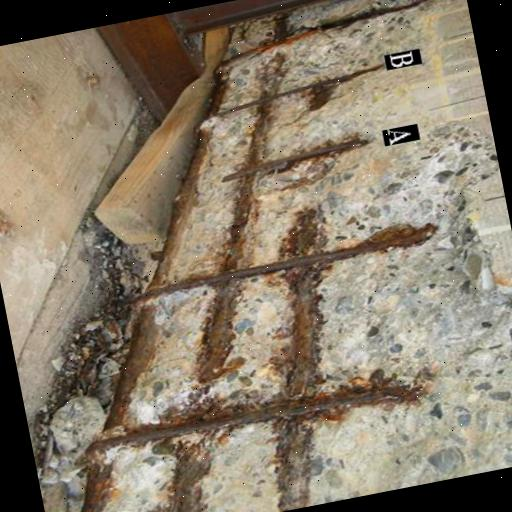spalling: (76, 0, 512, 512)
